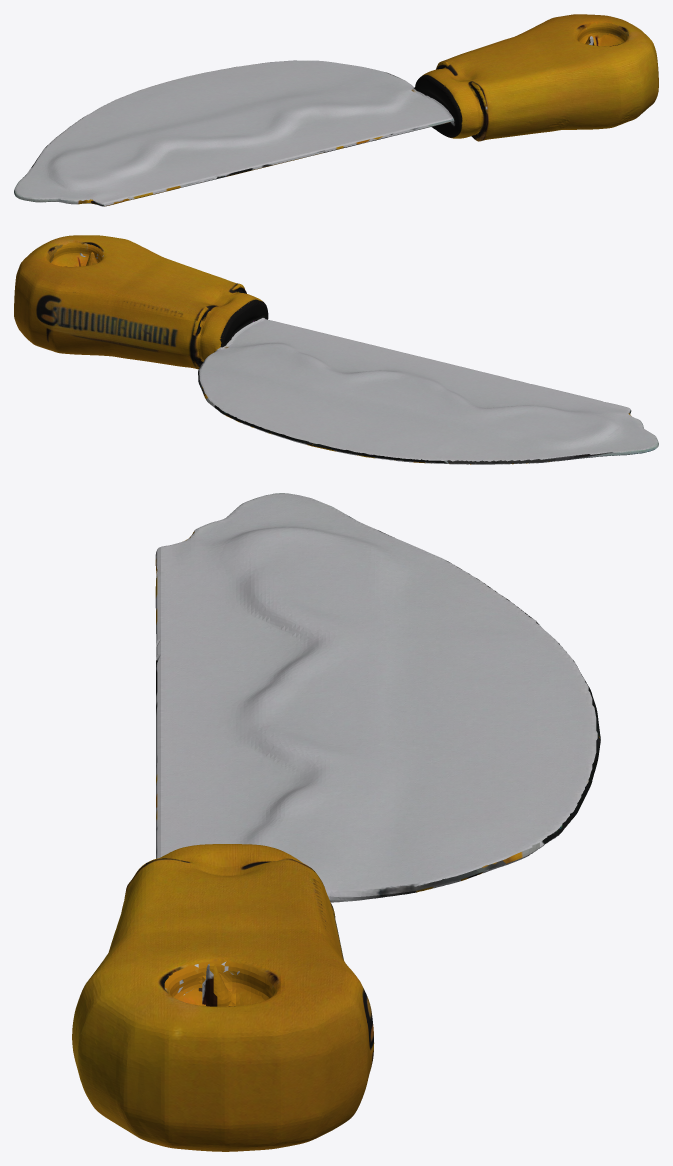
Rendered from image_0003_segmented.glb.
3 views of the same model, one above another, from view 1: azimuth 30°, elevation 25°; view 2: azimuth 150°, elevation 25°; view 3: azimuth 270°, elevation 25° (orthographic). The views are drawn at different scales.
Parts seen in each view (by area): view 1: tmp1acq22xa.ply; view 2: tmp1acq22xa.ply; view 3: tmp1acq22xa.ply.
Boxes of the visible parts, <box> form: tmp1acq22xa.ply: <box>14,14,658,206</box>; tmp1acq22xa.ply: <box>14,235,658,464</box>; tmp1acq22xa.ply: <box>72,493,600,1151</box>.
Size of the model in its own units: 1.99 by 0.2313 by 0.7395.
Materials: 1 (1 with a texture image).
